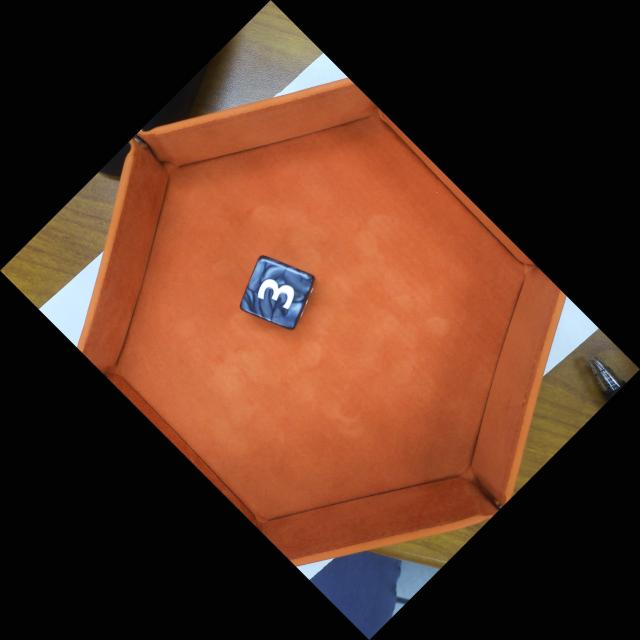dice: (240, 260, 313, 335)
